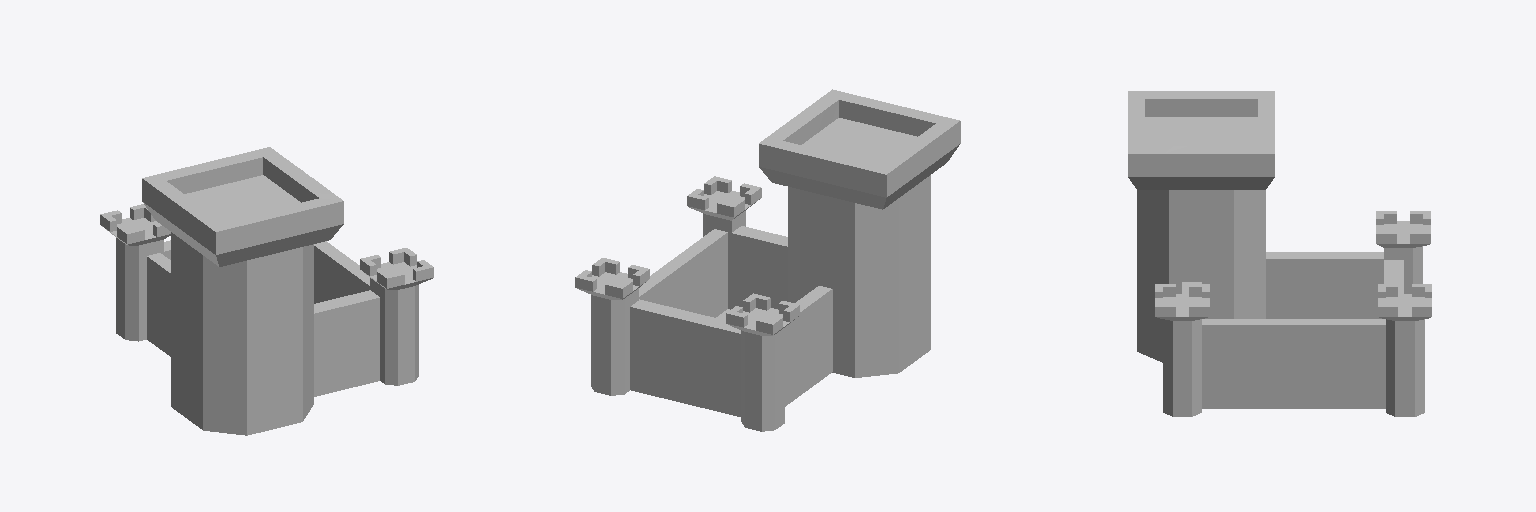
File: castle.obj
3 renders of one model, left to right at view 1: azimuth 30°, elevation 25°; view 2: azimuth 150°, elevation 25°; view 3: azimuth 270°, elevation 25°, orthographic.
Parts seen in each view (by area): view 1: Big_Tower.003, Big_Tower_Top.003, Main, Big_Tower.002, Big_Tower, Big_Tower_Top.002, Big_Tower_Top; view 2: Big_Tower.003, Main, Big_Tower_Top.003, Big_Tower, Big_Tower.001, Big_Tower_Top.001, Big_Tower.002, Big_Tower_Top.002, Big_Tower_Top; view 3: Main, Big_Tower.003, Big_Tower_Top.003, Big_Tower.001, Big_Tower.002, Big_Tower, Big_Tower_Top, Big_Tower_Top.002, Big_Tower_Top.001.
Part boxes in pixels (x1,y1,x2,y2): Big_Tower.003: (143, 202, 343, 435); Big_Tower_Top.003: (142, 147, 343, 254); Main: (147, 240, 379, 396); Big_Tower.002: (365, 262, 432, 385); Big_Tower: (102, 218, 170, 341); Big_Tower_Top.002: (360, 248, 433, 288); Big_Tower_Top: (100, 204, 170, 244); Big_Tower.003: (759, 100, 959, 377); Main: (630, 226, 832, 416); Big_Tower_Top.003: (759, 89, 960, 197); Big_Tower: (728, 308, 798, 431); Big_Tower.001: (577, 272, 645, 395); Big_Tower_Top.001: (575, 258, 649, 298); Big_Tower.002: (689, 191, 759, 309); Big_Tower_Top.002: (687, 176, 761, 217); Big_Tower_Top: (726, 293, 799, 334); Main: (1182, 252, 1403, 408); Big_Tower.003: (1128, 99, 1274, 362); Big_Tower_Top.003: (1128, 91, 1274, 176); Big_Tower.001: (1379, 294, 1430, 416); Big_Tower.002: (1157, 294, 1207, 416); Big_Tower: (1377, 221, 1429, 293); Big_Tower_Top: (1376, 211, 1430, 243); Big_Tower_Top.002: (1155, 284, 1209, 316); Big_Tower_Top.001: (1378, 284, 1431, 316).
Size of the model in its own units: 15.81 by 14.03 by 17.94.